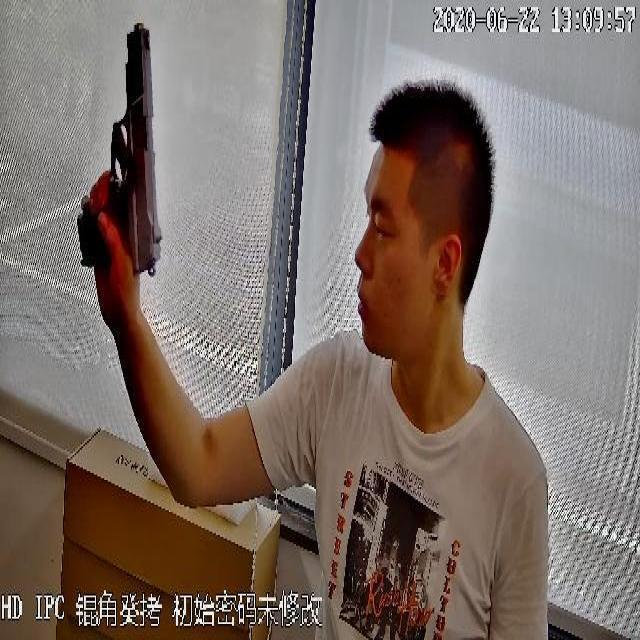pistol: (76, 24, 162, 278)
